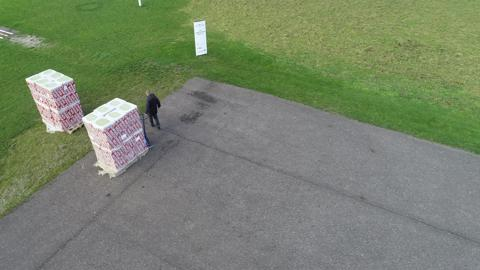RockwoolPallet: (27, 69, 85, 139)
